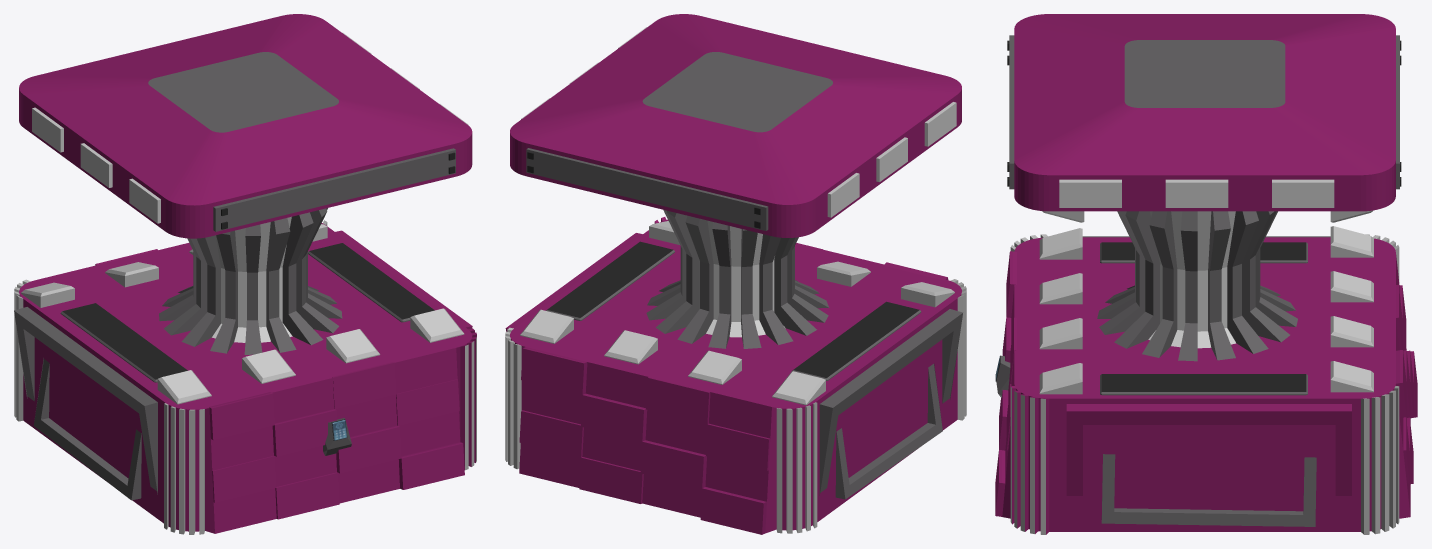
File: LargeJumpDriveCharger_Small.fbx
The picture shows the model from 3 angles, left to right: view 1: azimuth 30°, elevation 25°; view 2: azimuth 150°, elevation 25°; view 3: azimuth 270°, elevation 25°; orthographic projection. The views are drawn at different scales.
Visible parts, largest first — view 1: Plane.007, Cylinder, Plane.001, Plane.010, Cube; view 2: Plane.007, Cylinder, Plane.001, Plane.010; view 3: Plane.007, Cylinder, Plane.001, Plane.010.
Part boxes in pixels (x1=…): Plane.007: x1=14, y1=14, x2=476, y2=534; Cylinder: x1=159, y1=208, x2=342, y2=354; Plane.001: x1=60, y1=243, x2=434, y2=382; Plane.010: x1=213, y1=148, x2=455, y2=231; Cube: x1=323, y1=418, x2=351, y2=455; Plane.007: x1=505, y1=14, x2=966, y2=534; Cylinder: x1=646, y1=210, x2=828, y2=348; Plane.001: x1=546, y1=241, x2=921, y2=380; Plane.010: x1=526, y1=148, x2=768, y2=230; Plane.007: x1=995, y1=14, x2=1417, y2=534; Cylinder: x1=1097, y1=211, x2=1297, y2=361; Plane.001: x1=1100, y1=242, x2=1307, y2=395; Plane.010: x1=1007, y1=35, x2=1401, y2=189.
Size of the model in its own units: 1.52 by 1.53 by 1.55.
